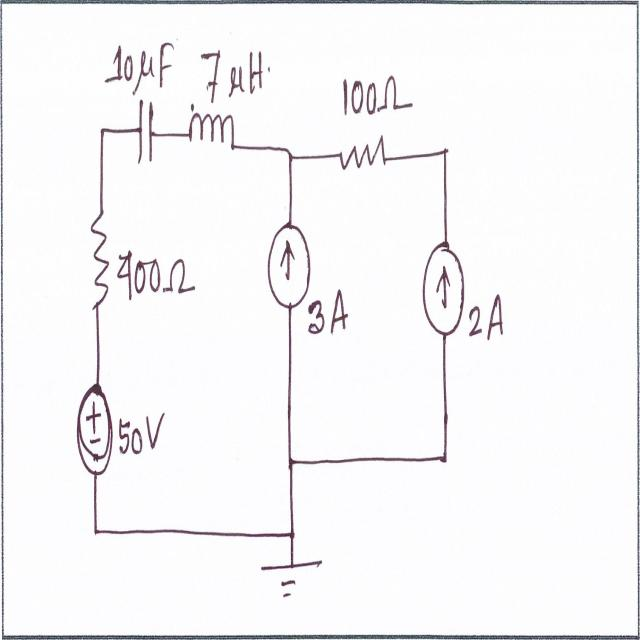capacitor: (136, 91, 158, 176)
current_source: (264, 207, 314, 318), (421, 232, 466, 341)
ground: (255, 550, 328, 604)
inductor: (186, 110, 240, 160)
resistor: (84, 205, 114, 318), (336, 128, 391, 182)
voltage_source: (74, 378, 115, 485)
